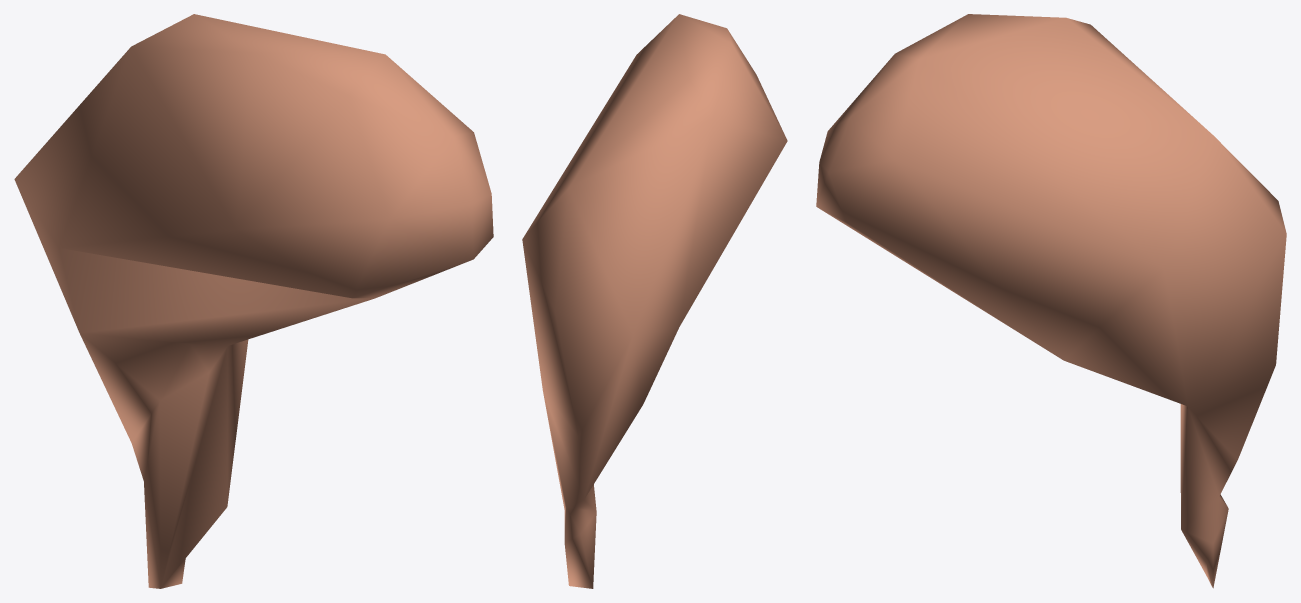
Rendered from epididymis-r.glb.
3 renders of one model, left to right at view 1: azimuth 30°, elevation 25°; view 2: azimuth 150°, elevation 25°; view 3: azimuth 270°, elevation 25°, orthographic. The views are drawn at different scales.
Parts seen in each view (by area): view 1: Epididymis.r; view 2: Epididymis.r; view 3: Epididymis.r.
Boxes of the visible parts, x1,y1,x2,y2 form: Epididymis.r: (14, 14, 493, 588); Epididymis.r: (522, 14, 787, 588); Epididymis.r: (816, 14, 1286, 588).
Size of the model in its own units: 0.00968 by 0.0253 by 0.0198.
